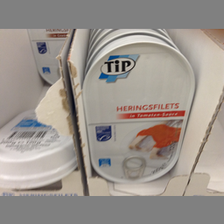fish: (81, 35, 197, 185), (1, 110, 77, 190)
